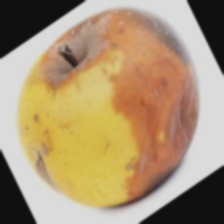apple: (45, 35, 199, 212)
